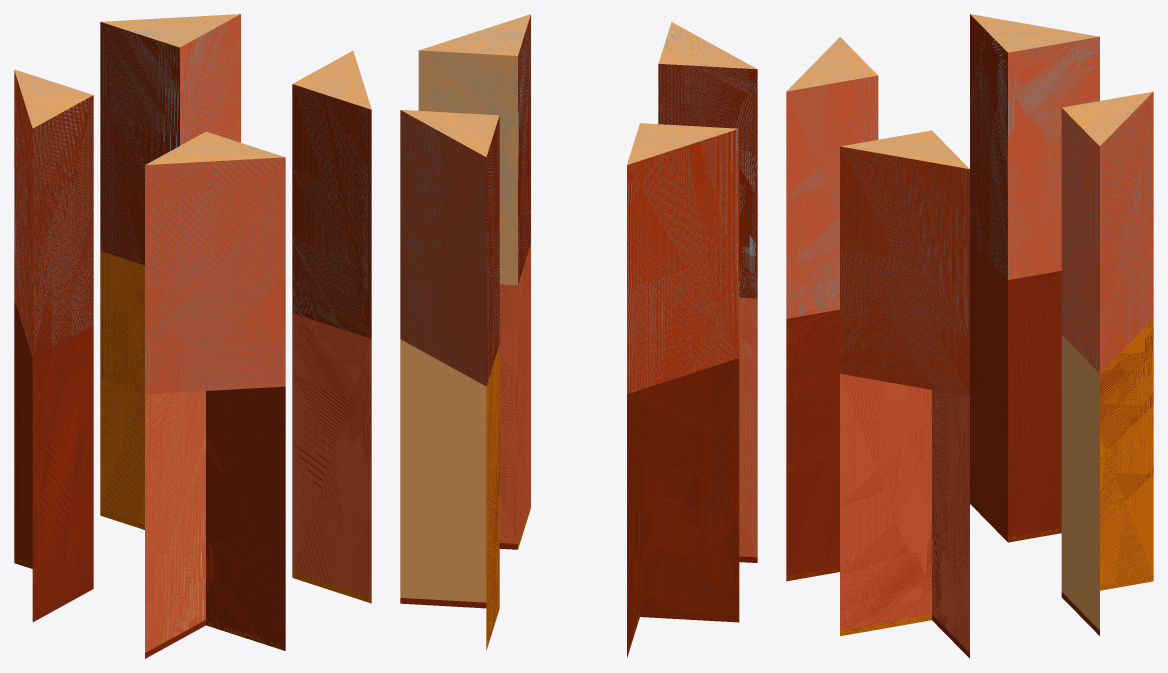
The model's file is rocket_flames.dae.
The picture shows the model from 3 angles, left to right: view 1: azimuth 30°, elevation 25°; view 2: azimuth 150°, elevation 25°; view 3: azimuth 270°, elevation 25°; orthographic projection.
Parts seen in each view (by area): view 1: Group_6 (×16); view 2: Group_6 (×17); view 3: Group_6 (×16).
Boxes of the visible parts, x1,y1,x2,y2 form: Group_6 (×16): (14, 14, 371, 652); Group_6 (×17): (400, 14, 757, 651); Group_6 (×16): (786, 14, 1153, 652).
Size of the model in its own units: 430 by 430 by 633.
